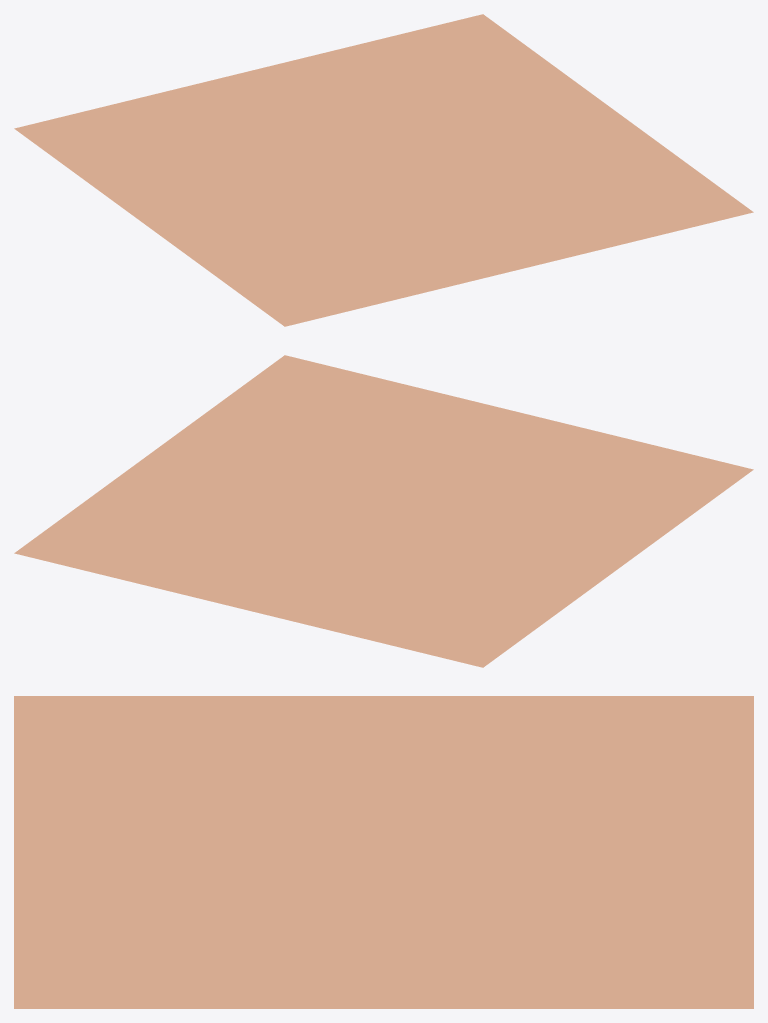
The model's file is ground_pathOpen.glb.
The picture shows the model from 3 angles, top to bottom: view 1: azimuth 30°, elevation 25°; view 2: azimuth 150°, elevation 25°; view 3: azimuth 270°, elevation 25°; orthographic projection. The views are drawn at different scales.
Parts seen in each view (by area): view 1: ground_pathOpen; view 2: ground_pathOpen; view 3: ground_pathOpen.
Boxes of the visible parts, box(x1,y1,x2,y2) form: ground_pathOpen: box(14, 14, 753, 326); ground_pathOpen: box(14, 355, 753, 667); ground_pathOpen: box(14, 696, 753, 1008).
Size of the model in its own units: 1 by 0 by 1.
